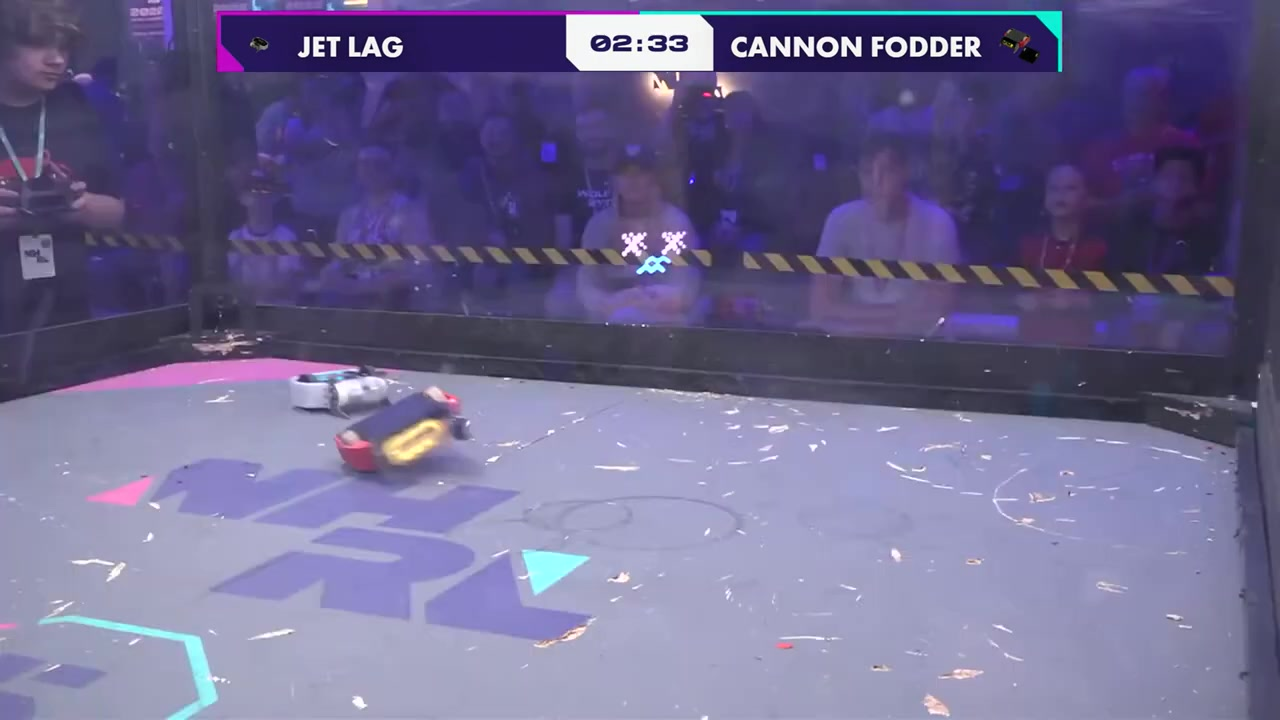combatbot: (335, 385, 478, 480), (289, 367, 393, 414)
